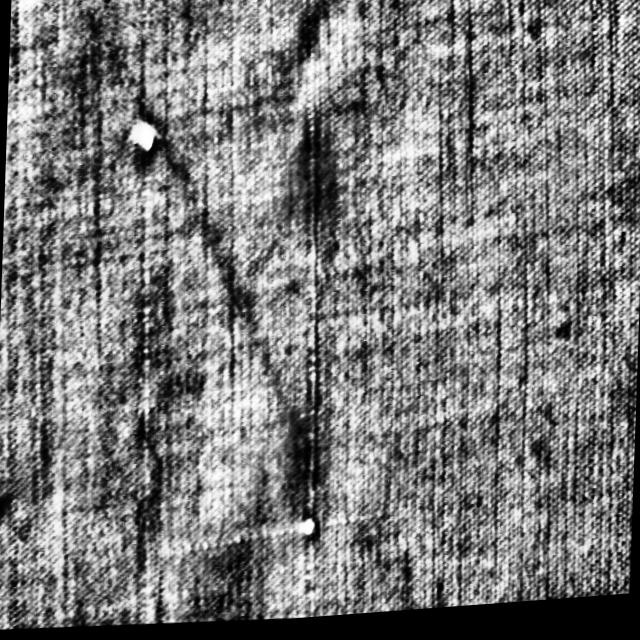Hole: (124, 114, 163, 163)
